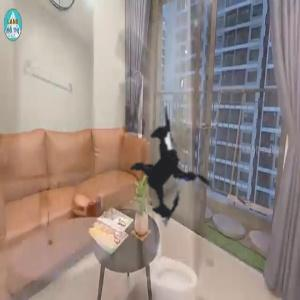drone: (78, 73, 265, 260)
